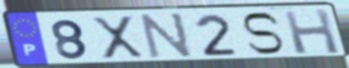2: (193, 12, 240, 57)
8: (50, 18, 91, 61)
H: (281, 7, 343, 56)
N: (140, 11, 195, 60)
S: (239, 11, 286, 56)
X: (89, 14, 147, 61)
